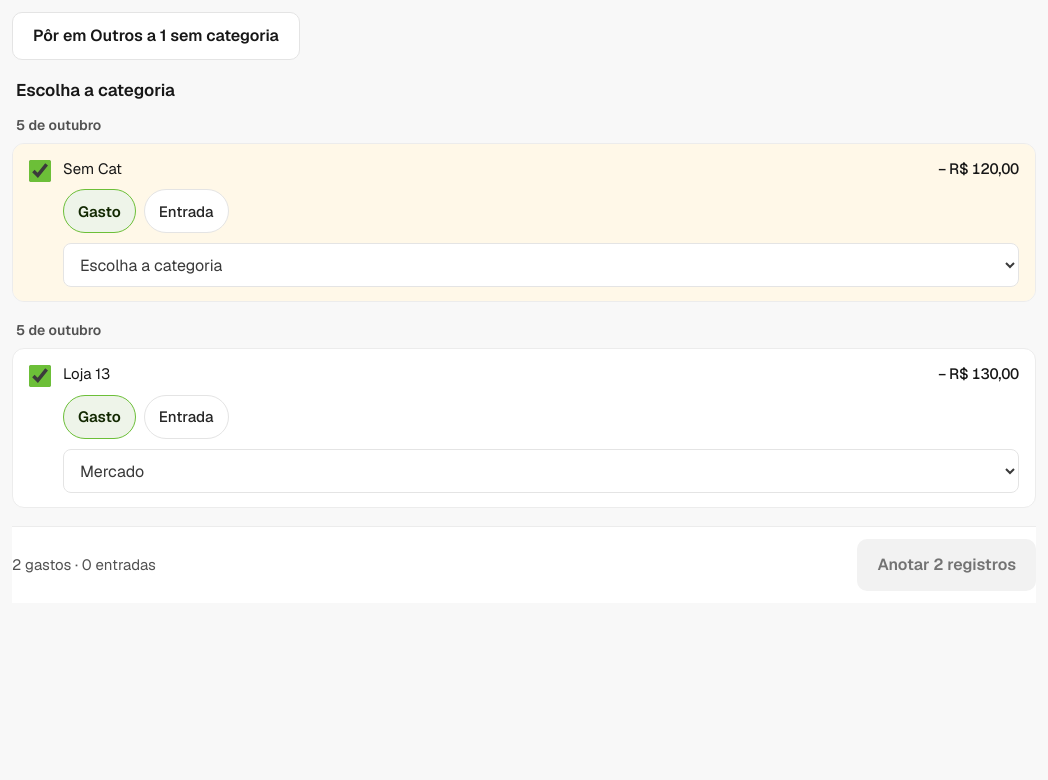
Test: marcar de novo uma linha sem categoria volta a travar o botão
The image size is (1048, 780).
Click the checkbox labelled "Sem Cat − R$ 120,00".
click(40, 171)  # box [29, 160, 51, 182]
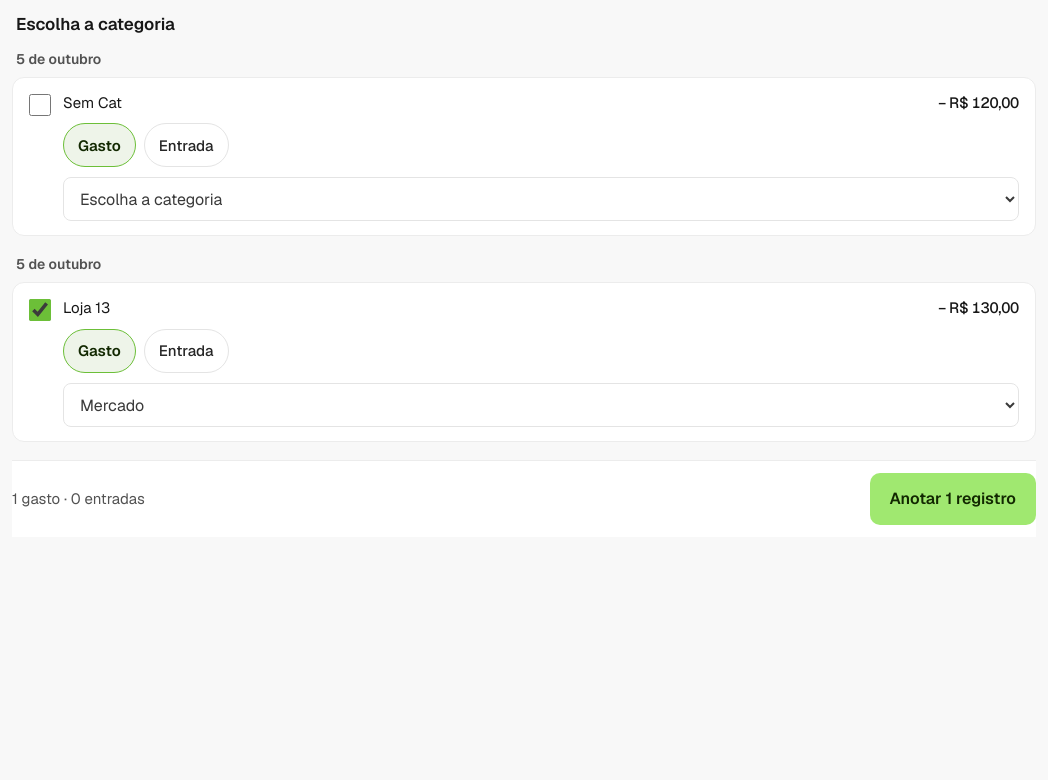
Check: the button "Anotar 1 registro" is enabled, box [870, 473, 1036, 525]
Click the checkbox labelled "Sem Cat − R$ 120,00".
click(40, 105)  # box [29, 94, 51, 116]
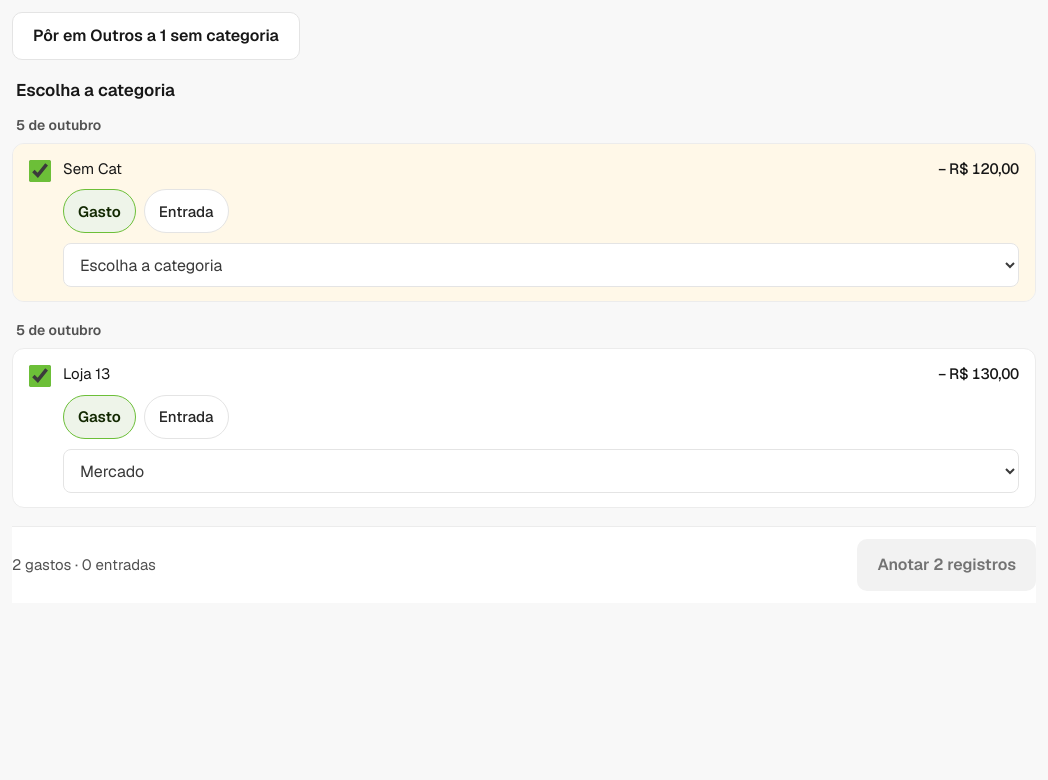
Check: the button "Anotar 2 registros" is disabled, box [857, 539, 1036, 591]
